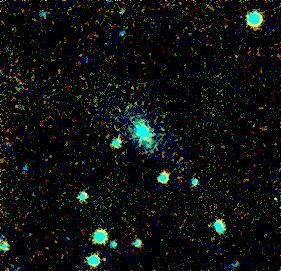star: (134, 131, 164, 161)
